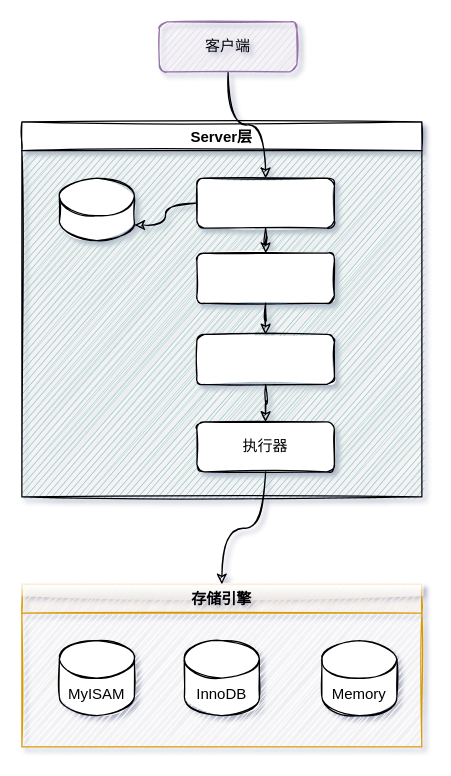
Some shapes in this 451 by 776 pixel diagram are drawn without their labels. The shapes that lost their labels are listed below. From the top down, each one's centre as x and y in pixels, then its label:
At [96,209]: "缓存".
At [265,202]: "连接器".
At [265,277]: "分析器".
At [265,358]: "优化器".
